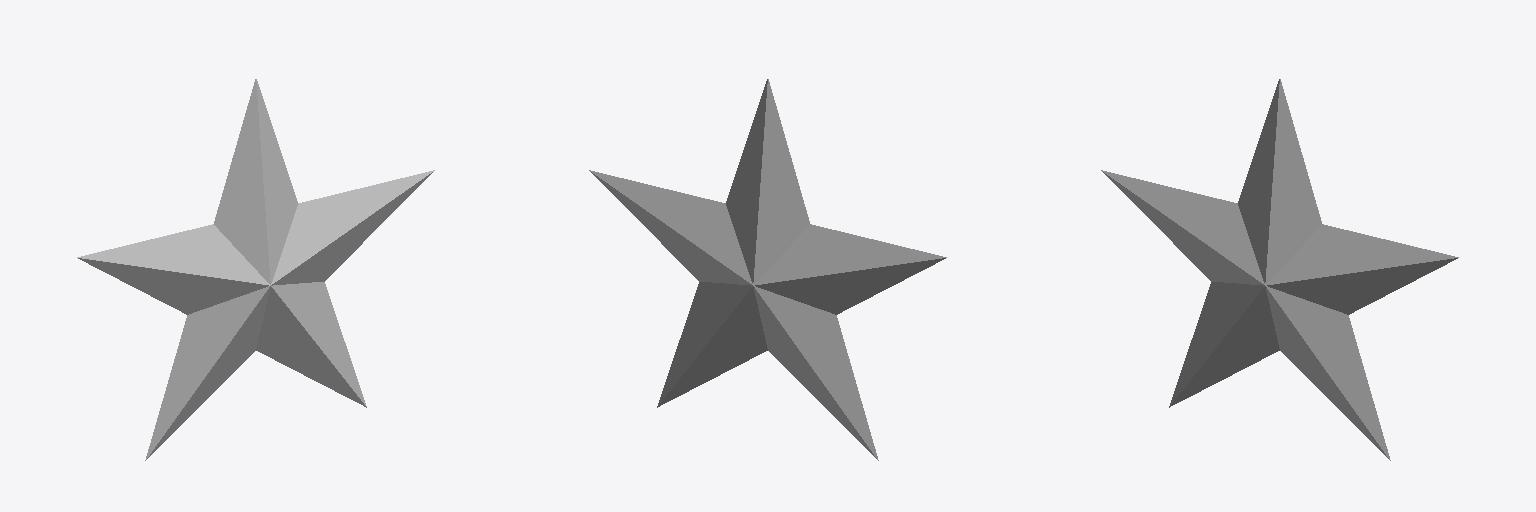
File: 20facestar 2.obj
3 renders of one model, left to right at view 1: azimuth 30°, elevation 25°; view 2: azimuth 150°, elevation 25°; view 3: azimuth 330°, elevation 25°, orthographic.
Parts seen in each view (by area): view 1: Mesh_Mesh.015; view 2: Mesh_Mesh.015; view 3: Mesh_Mesh.015.
Boxes of the visible parts, box(x1,y1,x2,y2) form: Mesh_Mesh.015: box(77, 79, 434, 460); Mesh_Mesh.015: box(589, 79, 946, 460); Mesh_Mesh.015: box(1101, 79, 1458, 460).
Size of the model in its own units: 4.98 by 4.74 by 0.708.